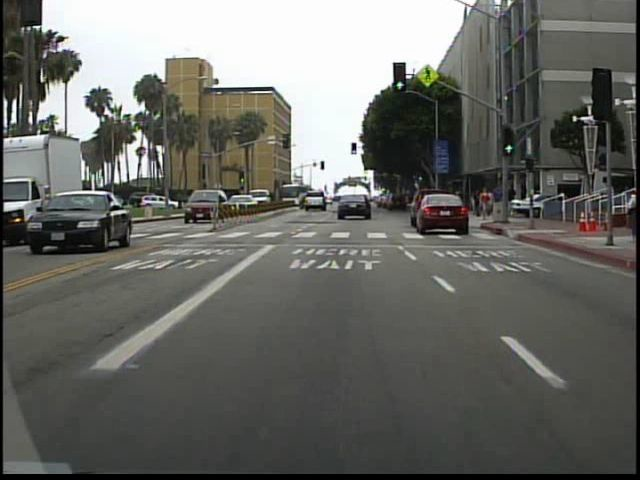person: (476, 186, 491, 224), (491, 183, 505, 220), (504, 183, 517, 217)
